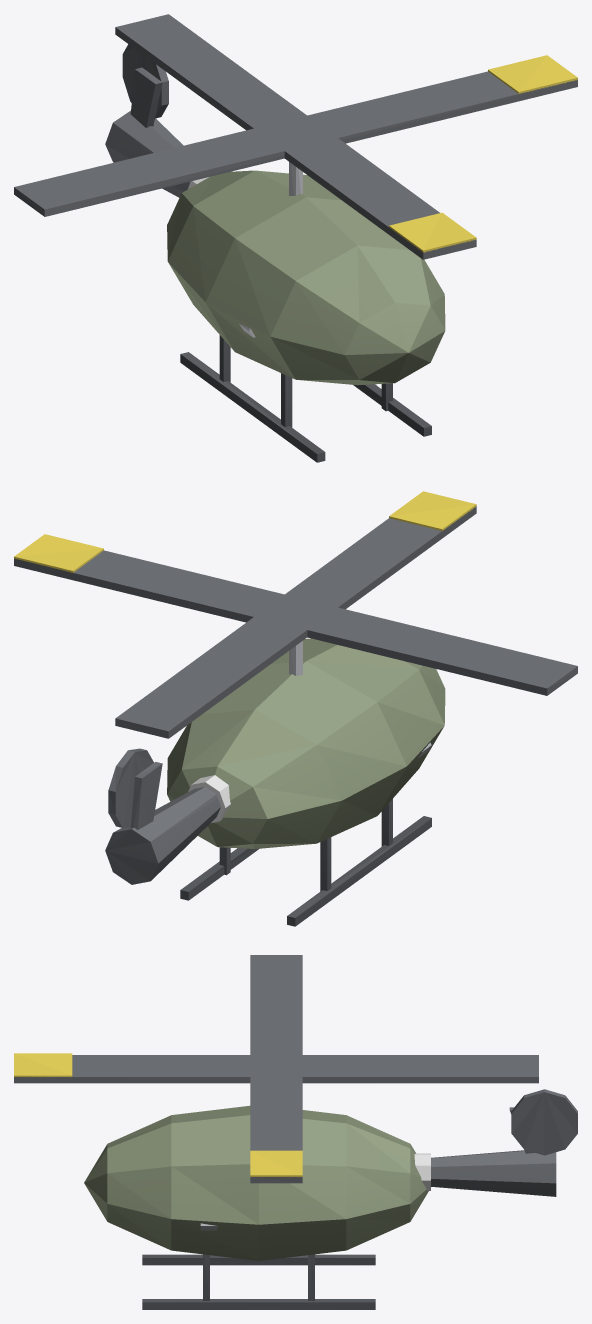
Rendered from Helicopter Gunship.glb.
The picture shows the model from 3 angles, top to bottom: view 1: azimuth 30°, elevation 25°; view 2: azimuth 150°, elevation 25°; view 3: azimuth 270°, elevation 25°; orthographic projection. The views are drawn at different scales.
Parts seen in each view (by area): view 1: Body; view 2: Body; view 3: Body.
Boxes of the visible parts, x1=… form: Body: x1=14, y1=14, x2=577, y2=462; Body: x1=14, y1=491, x2=577, y2=926; Body: x1=14, y1=955, x2=577, y2=1309.
Bounding box in the file's own units: 0.9 × 0.419 × 0.9671.
